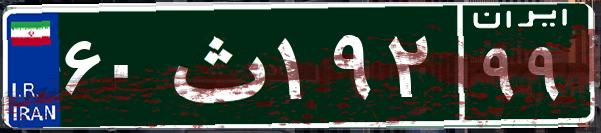0: (110, 28, 158, 105)
1: (273, 28, 330, 110)
2: (385, 28, 445, 110)
6: (57, 26, 110, 107)
9: (330, 28, 385, 110), (475, 38, 525, 113), (525, 38, 570, 115)
ث: (158, 15, 273, 115)
